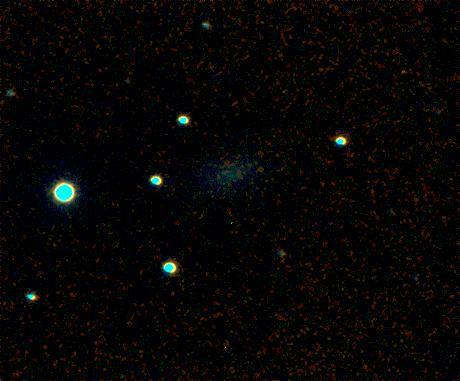star: (389, 60, 419, 90)
